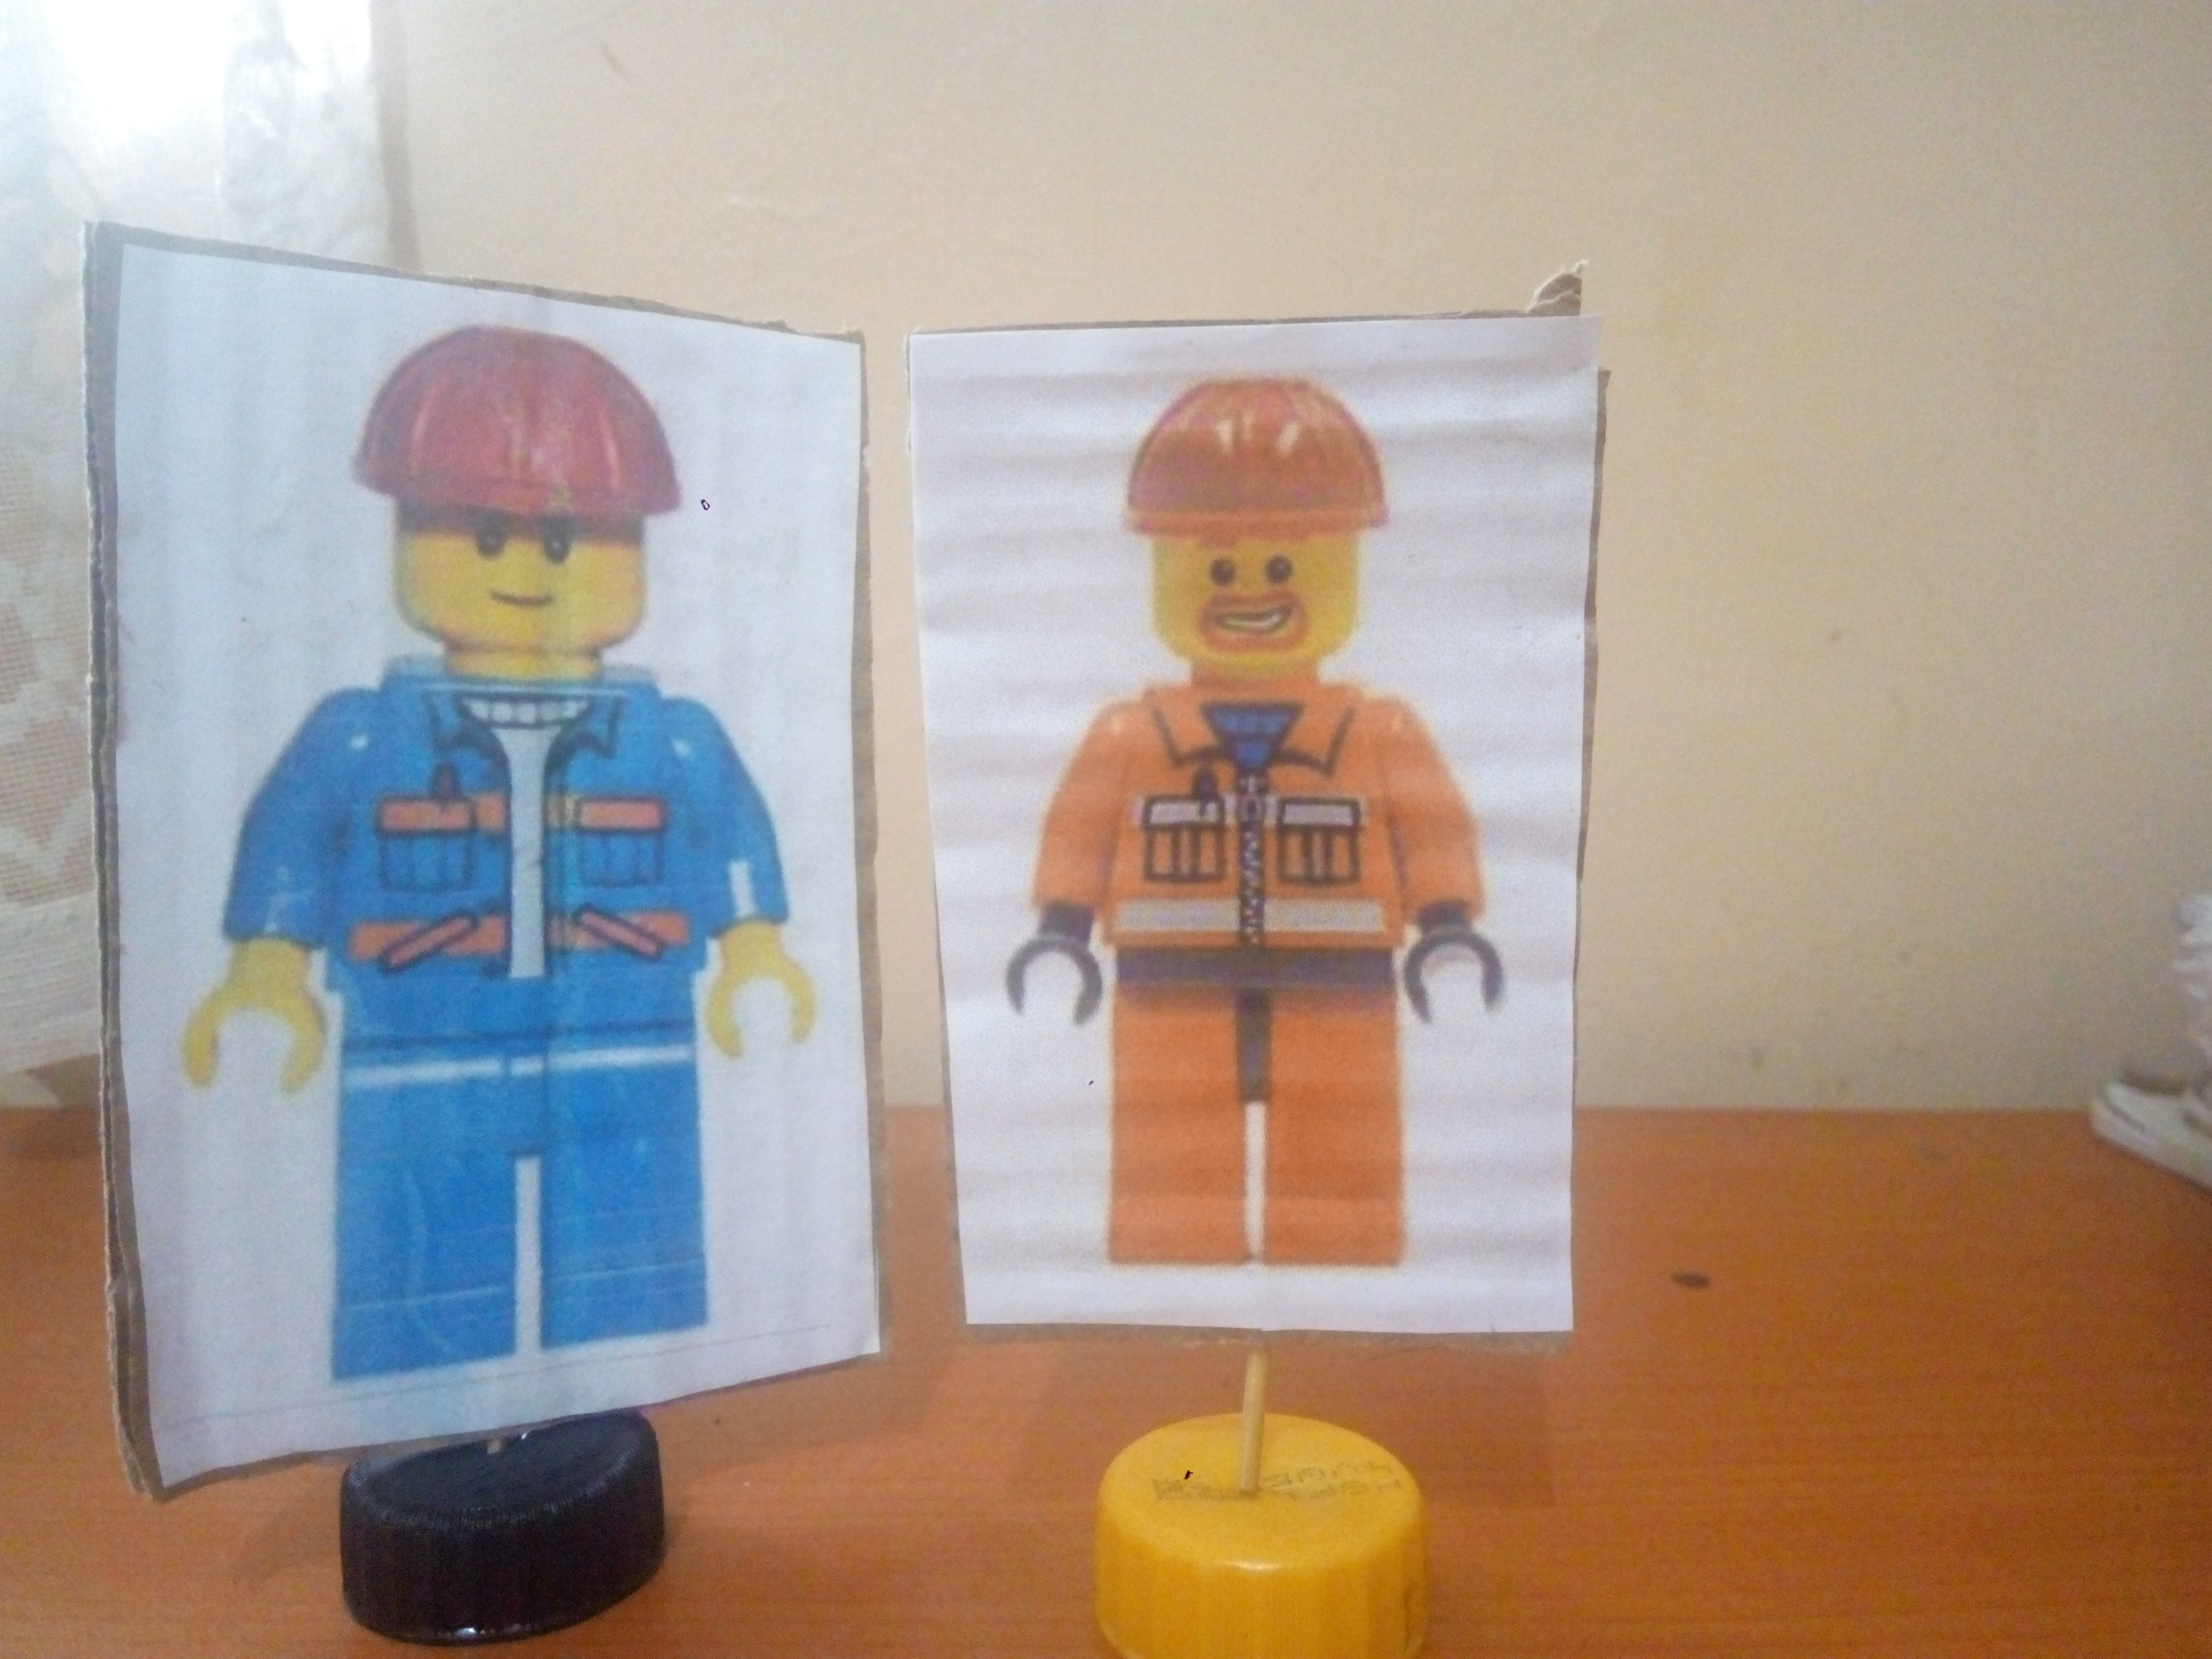pedestrian: (151, 290, 827, 1379), (959, 350, 1592, 1237)
